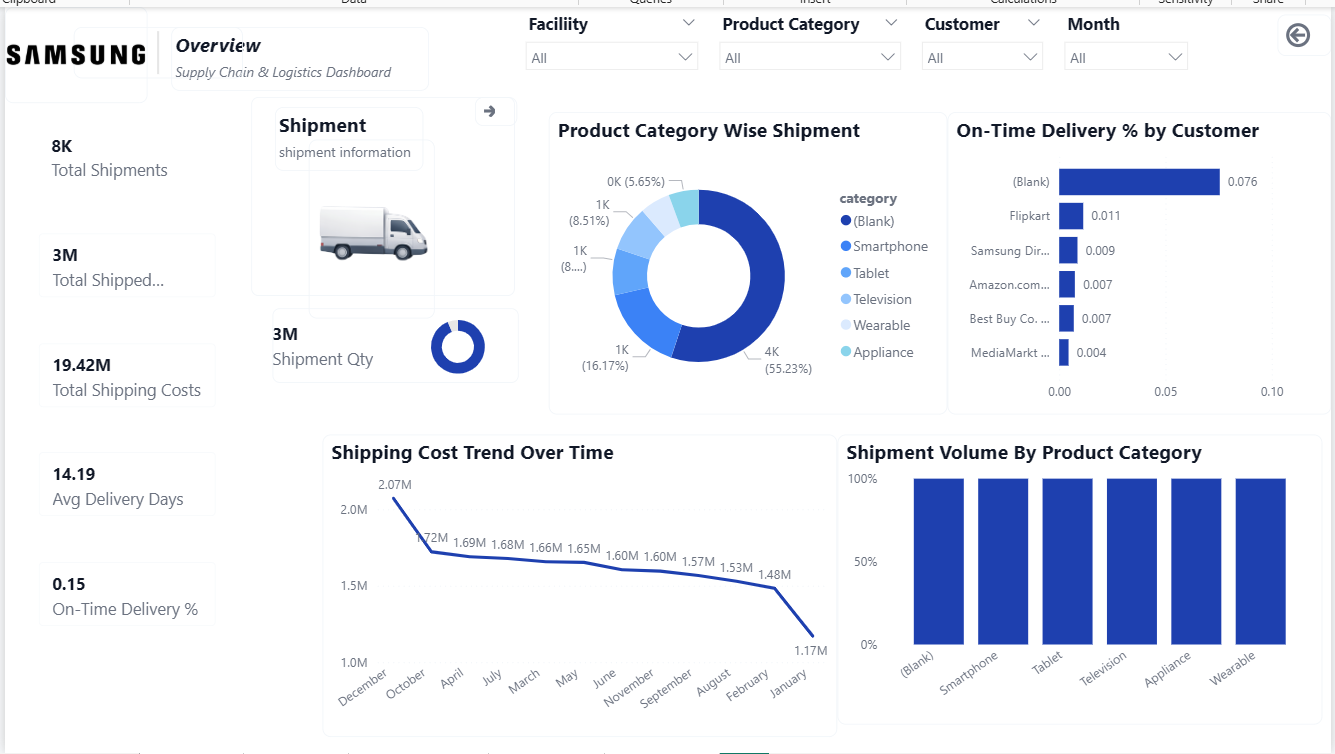

What the dashboard file says about the page in this screenshot:
{"tool":"powerbi","page":{"name":"Shipment","canvas":[1280,720],"ordinal":3},"visuals":[{"type":"actionButton","box":[453.6,86.9,41,27.7],"z":0},{"type":"shape","title":"Overview","box":[160.5,19.3,248.5,61.5],"z":1000},{"type":"shape","box":[66.4,19.3,162.9,49.5],"z":2000},{"type":"image","box":[0,0,137.5,92.9],"z":3000},{"type":"cardVisual","fields":{"Data":["mmeasures.Total Shipped Quantity"]},"box":[15.7,202,205.1,96.5],"z":4000},{"type":"cardVisual","fields":{"Data":["mmeasures.Total Shipping Costs"]},"box":[15.7,307.4,205.1,96.5],"z":5000},{"type":"cardVisual","fields":{"Data":["mmeasures.Avg Delivery Delay (Days)"]},"box":[15.7,412.8,205.1,96.5],"z":6000},{"type":"cardVisual","fields":{"Data":["Measures_Table.On-Time Delivery %"]},"box":[15.7,518.3,205.1,96.5],"z":7000},{"type":"cardVisual","fields":{"Data":["mmeasures.Total Shipments"]},"box":[15.7,96.5,205.1,96.5],"z":8000},{"type":"clusteredBarChart","title":"On-Time Delivery % by Customer","fields":{"Y":["mmeasures.On-Time Deliverys %"],"Category":["dim_customer.customer_name"]},"box":[909.7,101.3,370.4,292],"z":9000},{"type":"donutChart","title":"Product Category Wise Shipment","fields":{"Category":["dim_product.category"],"Y":["mmeasures.Total Shipments"]},"box":[524.8,101.3,384.9,292],"z":10000},{"type":"hundredPercentStackedColumnChart","title":"Shipment Volume By Product Category","fields":{"Category":["dim_product.category"],"Y":["mmeasures.Total Shipped Quantity"]},"box":[803.5,412.6,468.1,279.9],"z":11000},{"type":"lineChart","title":"Shipping Cost Trend Over Time","fields":{"Category":["dim_date.month_name"],"Y":["mmeasures.Total Shipping Costs"]},"box":[306.4,412.6,497.1,292],"z":12000},{"type":"slicer","fields":{"Values":["dim_facility.facility_name"]},"box":[492.2,0,187,73.6],"z":13000},{"type":"slicer","fields":{"Values":["dim_product.category"]},"box":[679.2,0,195.4,73.6],"z":14000},{"type":"slicer","fields":{"Values":["dim_customer.customer_name"]},"box":[874.7,0,137.5,73.6],"z":15000},{"type":"slicer","fields":{"Values":["dim_date.month_name"]},"box":[1012.2,0,139.9,68.8],"z":16000},{"type":"actionButton","box":[1228.2,7.2,51.9,39.8],"z":17000},{"type":"shape","box":[237.7,86.9,254.6,191.8],"z":18000},{"type":"image","box":[293.4,127.4,121.9,172.5],"z":19000},{"type":"shape","title":"Shipment","box":[260.8,96,143.6,61.5],"z":20000},{"type":"shape","box":[258.4,290.3,237.7,72.4],"z":21000},{"type":"cardVisual","fields":{"Data":["Measures_Table.Total Shipment Qty"]},"box":[229.2,276.3,166.5,101.3],"z":22000},{"type":"donutChart","fields":{"Y":["Measures_Table.Total Shipment Qty","Measures_Table.Total delivered Qty"]},"box":[377.6,290.8,119.4,74.8],"z":23000}]}

Visuals, with their boxes on the page's 1280x720 design canvas (x1, y1, x2, y2). These are canvas units, not pixel positions in the 1335x754 screenshot, which may show the page scaled, cropped or inside an application window:
actionButton: [454,87,495,115]
"Overview" shape: [160,19,409,81]
shape: [66,19,229,69]
image: [0,0,138,93]
cardVisual - mmeasures.Total Shipped Quantity: [16,202,221,298]
cardVisual - mmeasures.Total Shipping Costs: [16,307,221,404]
cardVisual - mmeasures.Avg Delivery Delay (Days): [16,413,221,509]
cardVisual - Measures_Table.On-Time Delivery %: [16,518,221,615]
cardVisual - mmeasures.Total Shipments: [16,96,221,193]
"On-Time Delivery % by Customer" clusteredBarChart: [910,101,1280,393]
"Product Category Wise Shipment" donutChart: [525,101,910,393]
"Shipment Volume By Product Category" hundredPercentStackedColumnChart: [804,413,1272,692]
"Shipping Cost Trend Over Time" lineChart: [306,413,804,705]
slicer - dim_facility.facility_name: [492,0,679,74]
slicer - dim_product.category: [679,0,875,74]
slicer - dim_customer.customer_name: [875,0,1012,74]
slicer - dim_date.month_name: [1012,0,1152,69]
actionButton: [1228,7,1280,47]
shape: [238,87,492,279]
image: [293,127,415,300]
"Shipment" shape: [261,96,404,158]
shape: [258,290,496,363]
cardVisual - Measures_Table.Total Shipment Qty: [229,276,396,378]
donutChart - Measures_Table.Total Shipment Qty x Measures_Table.Total delivered Qty: [378,291,497,366]
